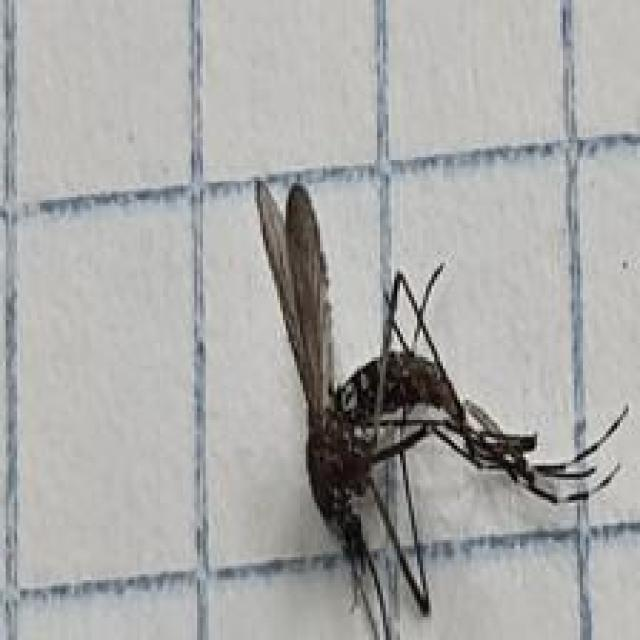Aedes albopictus: (252, 177, 628, 640)
